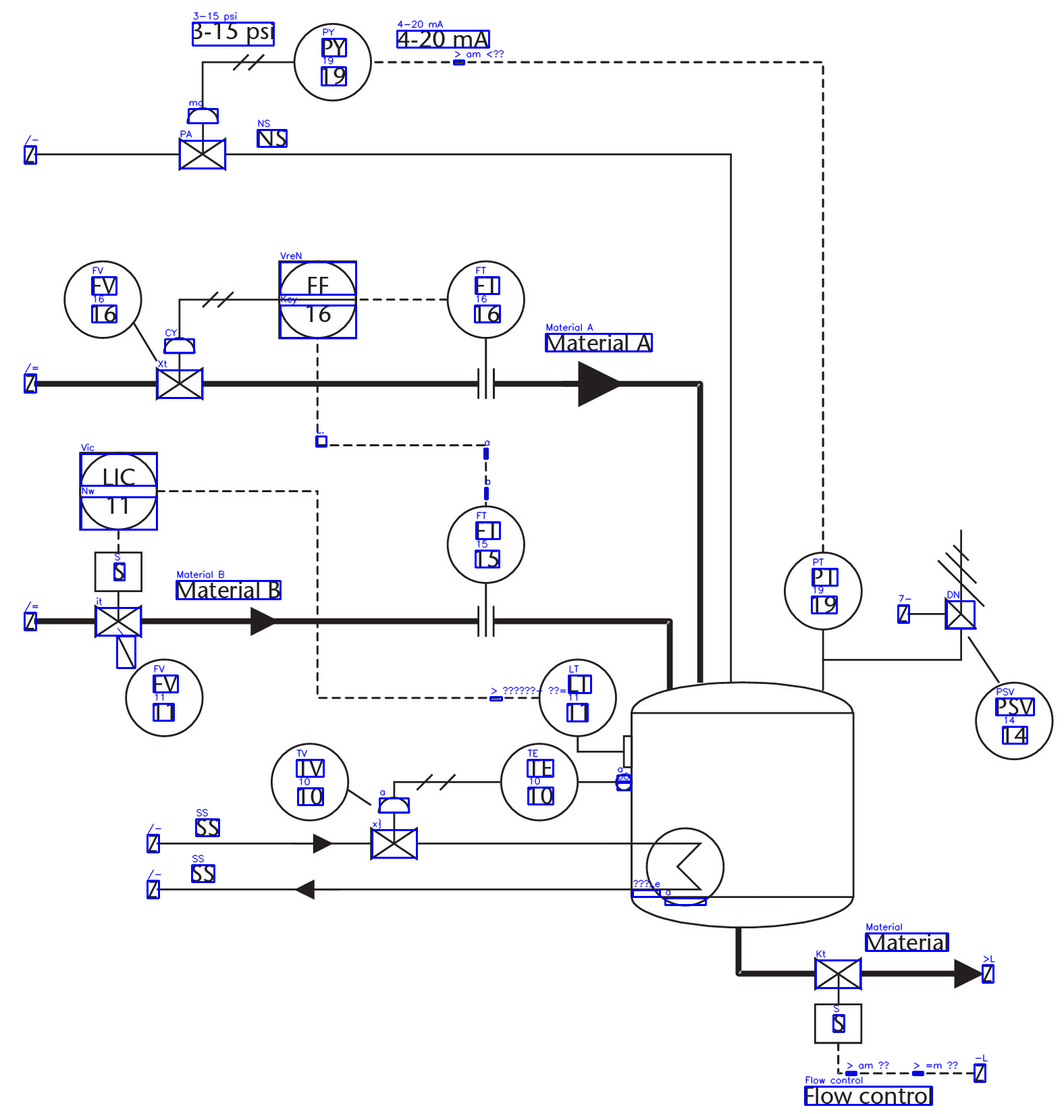Instrumento: (290, 20, 377, 103), (443, 258, 527, 342), (76, 448, 159, 533), (444, 504, 529, 586), (268, 741, 351, 823), (974, 679, 1055, 762), (537, 658, 618, 737), (783, 552, 864, 631), (499, 743, 582, 820), (365, 795, 421, 863)
Tanque: (622, 681, 861, 929)
Válvula: (61, 257, 144, 343), (122, 658, 206, 740), (89, 544, 148, 644), (149, 333, 208, 403), (175, 104, 232, 174)
